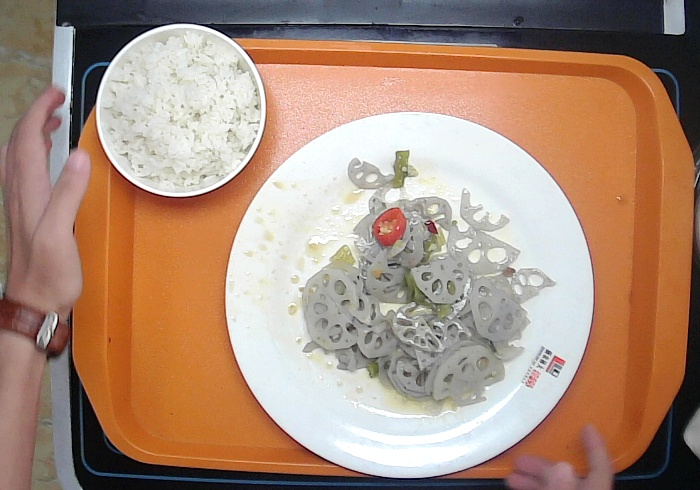ZNLD-Da_Yuan_Pan: (217, 111, 593, 475)
ZNLD-Fan_Wan: (92, 22, 269, 203)
